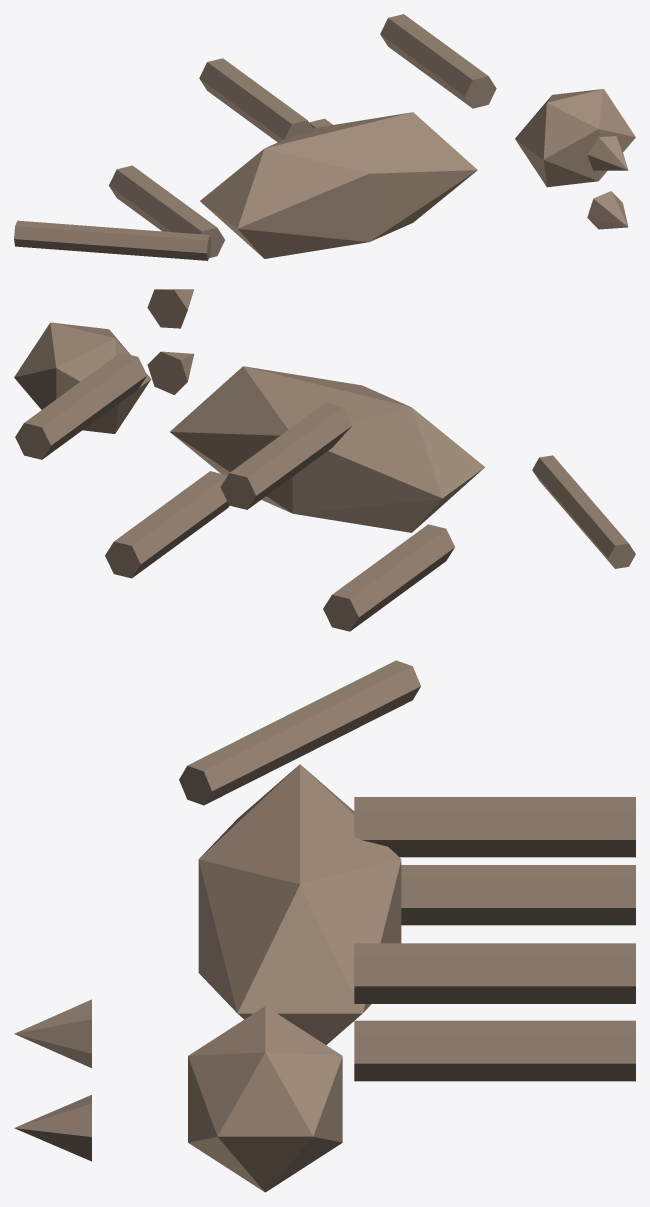
The model's file is otter.glb.
3 views of the same model, one above another, from view 1: azimuth 30°, elevation 25°; view 2: azimuth 150°, elevation 25°; view 3: azimuth 270°, elevation 25° (orthographic). The views are drawn at different scales.
Visible parts, largest first — view 1: world; view 2: world; view 3: world.
Part boxes in pixels (bbox=[...]): world: bbox=[14, 14, 635, 260]; world: bbox=[14, 289, 635, 631]; world: bbox=[14, 660, 635, 1192].
Size of the model in its own units: 2.52 by 0.4812 by 1.44.
